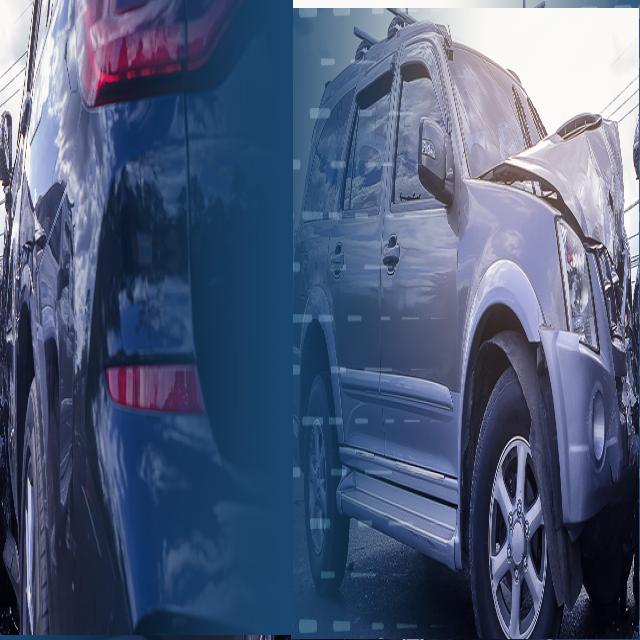accident: (291, 9, 640, 639)
car: (0, 0, 298, 636), (0, 0, 293, 635)
